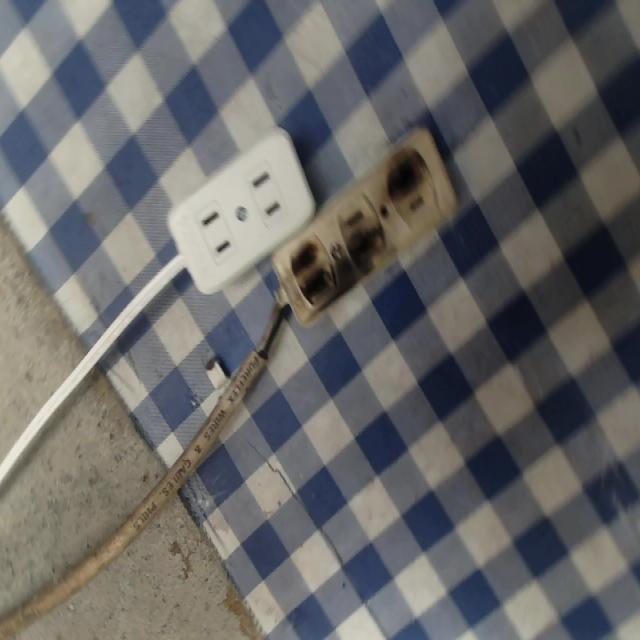-: (289, 235, 337, 313), (384, 148, 430, 199), (348, 225, 390, 275)
